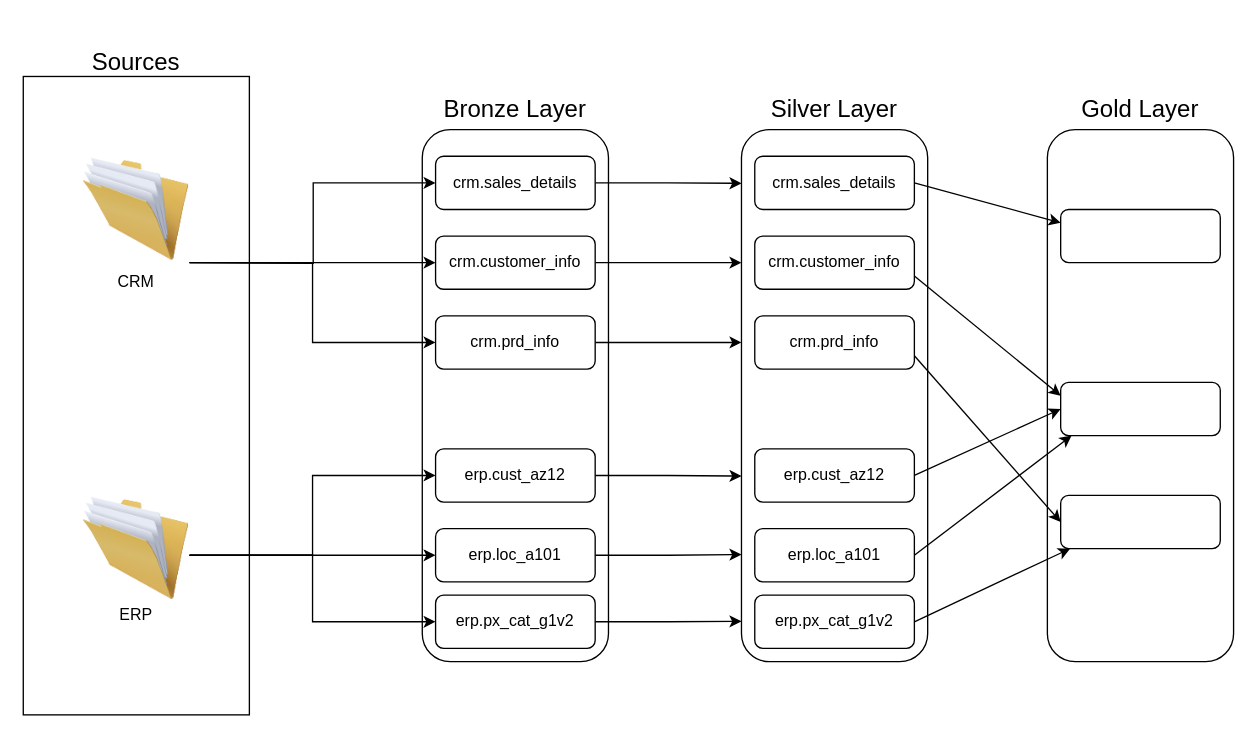
The diagram is 1257 pixels wide and 738 high, and some of its shapes have lost their labels. The shapes that lost their labels are listed below. From the top down, each one's centre as x and y in pixels, then its label:
At point (1139, 235): "fact_sales".
At point (1139, 408): "dim_customers".
At point (1139, 521): "dim_products".
